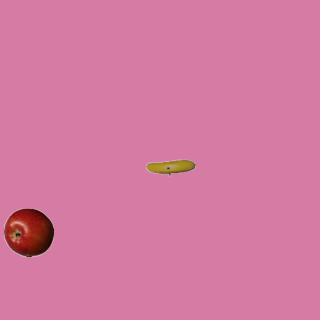Apple Braeburn: (3, 207, 53, 257)
Banana: (145, 142, 195, 192)
